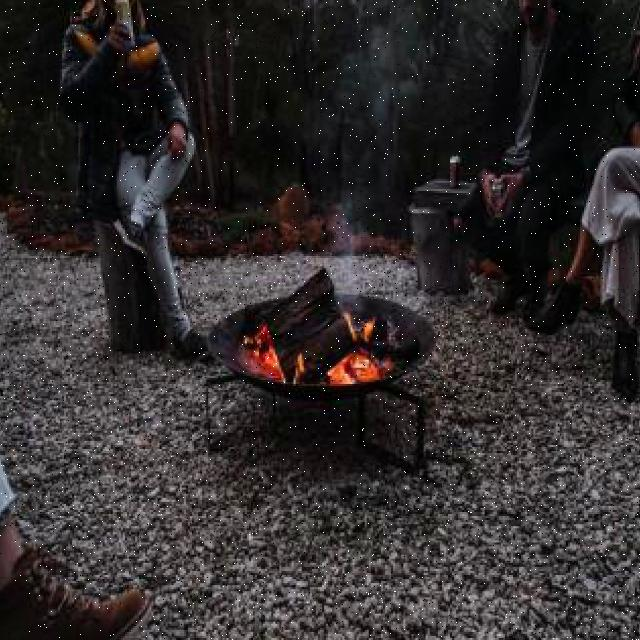fire: (324, 293, 375, 390)
smoke: (314, 20, 399, 288)
